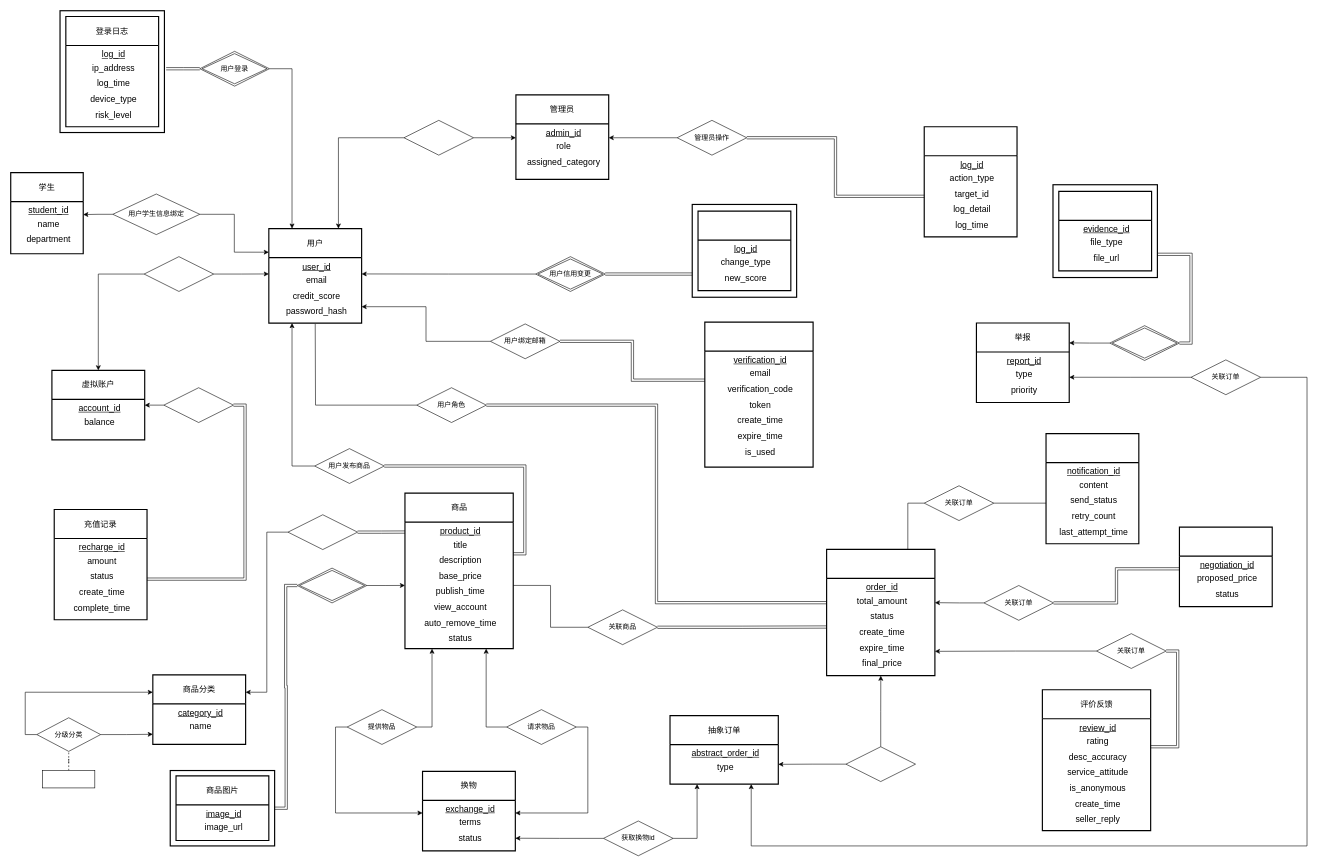
This 1322x867 diagram has some shape labels left out. The box of each missing label's shape, as (x1, y1, x2, y2) in pixels:
parent_id: (42, 770, 95, 788)
上传图片: (297, 568, 367, 603)
举报上传: (1109, 325, 1179, 360)
举报证据: (1058, 190, 1152, 271)
信用变更日志: (697, 210, 791, 291)
实际账号: (403, 120, 474, 155)
操作日志: (923, 126, 1017, 237)
用户创建: (144, 256, 214, 291)
用户提交分类: (287, 514, 358, 550)
获取订单id: (845, 746, 916, 782)
订单: (826, 548, 935, 676)
议价: (1179, 526, 1273, 607)
账户充值: (163, 387, 233, 423)
通知信息: (1045, 433, 1139, 544)
邮件验证: (704, 321, 813, 467)
